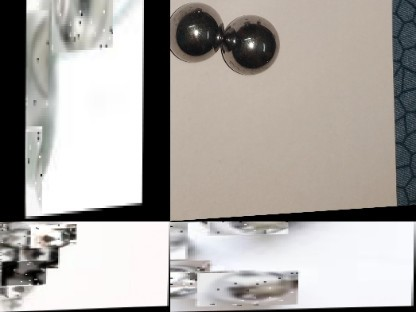ironball: (197, 270, 298, 306), (222, 15, 277, 80), (168, 0, 220, 63), (51, 0, 113, 52), (25, 8, 48, 108), (25, 124, 42, 218), (170, 264, 225, 292), (28, 222, 76, 247), (206, 221, 288, 235), (1, 260, 46, 284), (19, 243, 59, 268), (0, 229, 37, 250), (170, 222, 187, 258), (0, 294, 22, 312), (0, 261, 7, 287), (0, 226, 13, 237)
